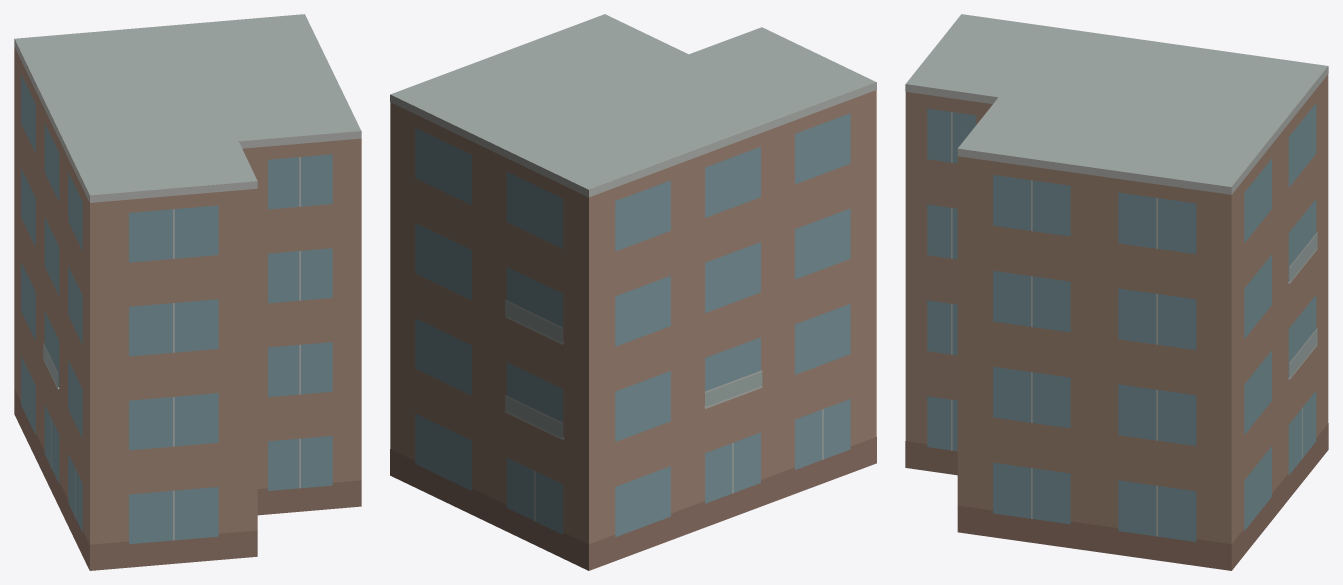
Rendered from survey-upis-33037899.glb.
The picture shows the model from 3 angles, left to right: view 1: azimuth 30°, elevation 25°; view 2: azimuth 150°, elevation 25°; view 3: azimuth 270°, elevation 25°; orthographic projection. The views are drawn at different scales.
Parts seen in each view (by area): view 1: survey-upis-33037899.tmp; view 2: survey-upis-33037899.tmp; view 3: survey-upis-33037899.tmp.
Boxes of the visible parts, x1,y1,x2,y2 form: survey-upis-33037899.tmp: [14, 14, 361, 570]; survey-upis-33037899.tmp: [390, 14, 876, 570]; survey-upis-33037899.tmp: [905, 14, 1328, 570].
Bounding box in the file's own units: 11.82 × 12.2 × 12.2.
